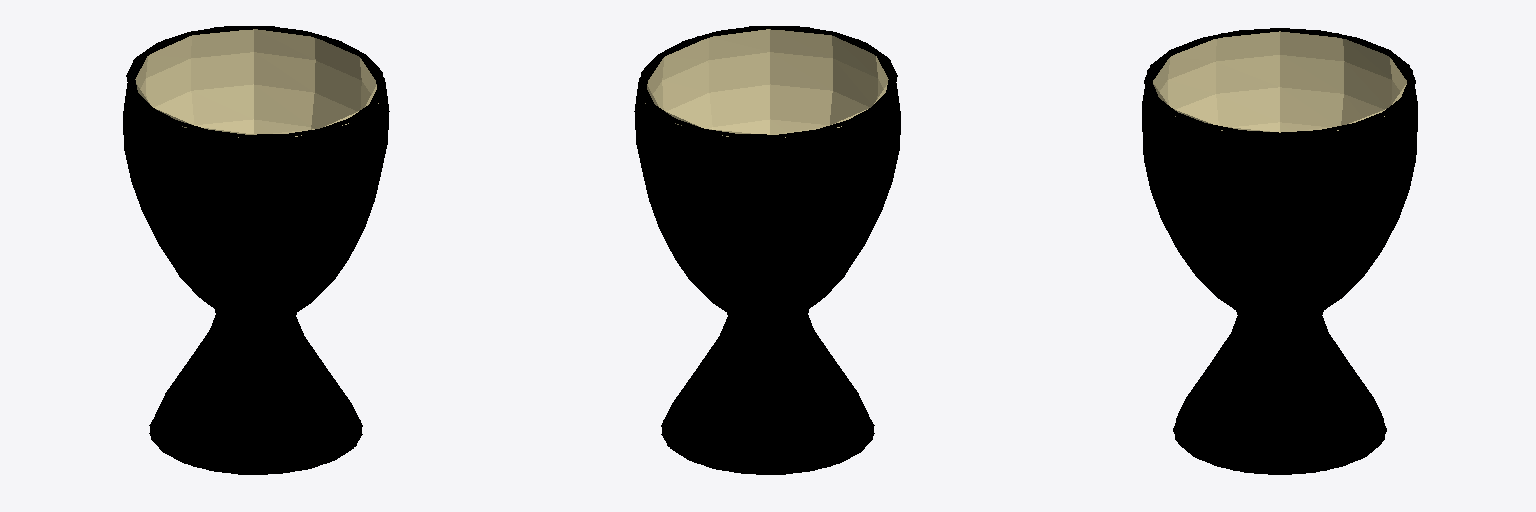
File: Kelch.obj
3 renders of one model, left to right at view 1: azimuth 30°, elevation 25°; view 2: azimuth 150°, elevation 25°; view 3: azimuth 270°, elevation 25°, orthographic.
Parts seen in each view (by area): view 1: nurbsToPoly3, nurbsToPoly2, nurbsToPoly5; view 2: nurbsToPoly3, nurbsToPoly2, nurbsToPoly5; view 3: nurbsToPoly3, nurbsToPoly2, nurbsToPoly5.
Boxes of the visible parts, x1=… form: nurbsToPoly3: x1=123, y1=26, x2=389, y2=474; nurbsToPoly2: x1=135, y1=29, x2=378, y2=137; nurbsToPoly5: x1=126, y1=26, x2=385, y2=137; nurbsToPoly3: x1=634, y1=26, x2=900, y2=474; nurbsToPoly2: x1=645, y1=29, x2=888, y2=137; nurbsToPoly5: x1=638, y1=26, x2=897, y2=137; nurbsToPoly3: x1=1142, y1=32, x2=1417, y2=474; nurbsToPoly2: x1=1153, y1=31, x2=1406, y2=132; nurbsToPoly5: x1=1144, y1=28, x2=1415, y2=135.
Size of the model in its own units: 1.16 by 1.69 by 1.21.